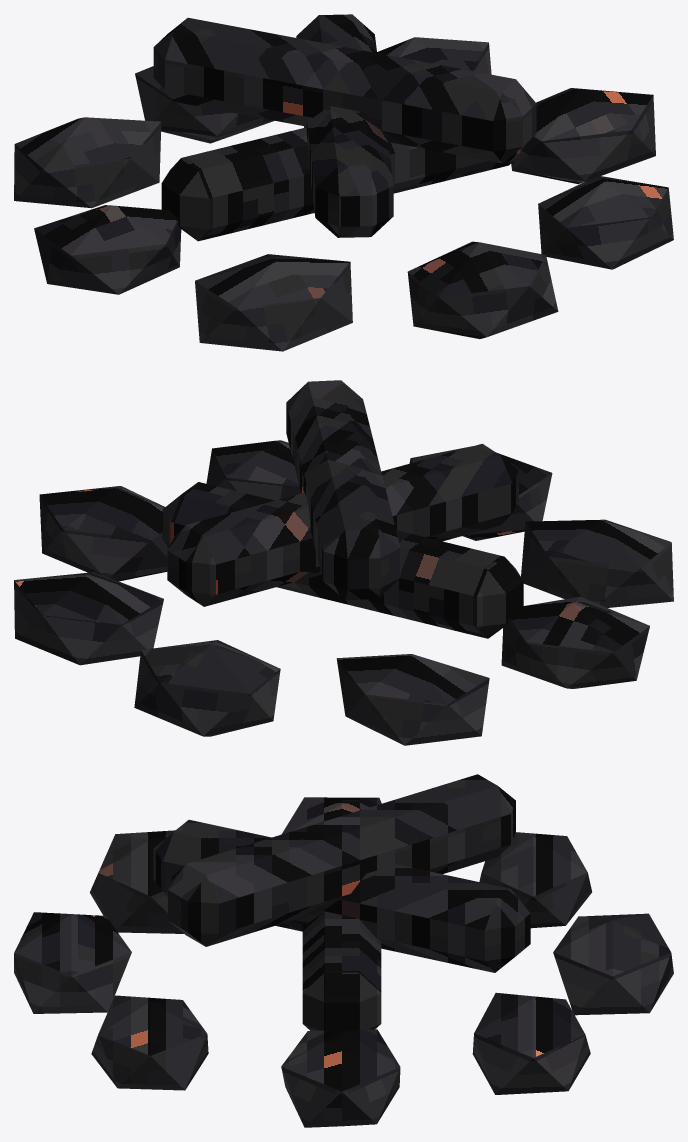
The model's file is enfeite_fogueira.glb.
The picture shows the model from 3 angles, top to bottom: view 1: azimuth 30°, elevation 25°; view 2: azimuth 150°, elevation 25°; view 3: azimuth 270°, elevation 25°; orthographic projection. The views are drawn at different scales.
Parts seen in each view (by area): view 1: vulcao_enfeite_fogueira; view 2: vulcao_enfeite_fogueira; view 3: vulcao_enfeite_fogueira.
Boxes of the visible parts, <box> form: vulcao_enfeite_fogueira: <box>14,14,673,351</box>; vulcao_enfeite_fogueira: <box>14,380,673,745</box>; vulcao_enfeite_fogueira: <box>14,774,673,1127</box>.
Size of the model in its own units: 0.624 by 0.1841 by 0.5853.
Materials: 2 (2 with a texture image).
